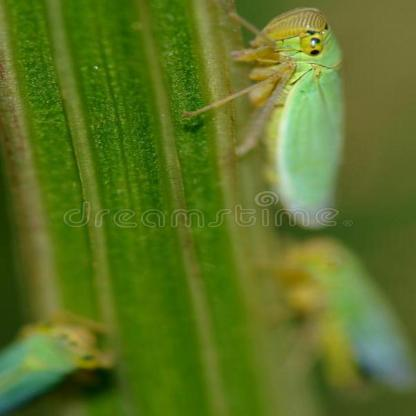green-leafhopper: (235, 10, 356, 224), (300, 242, 401, 393), (0, 320, 100, 414)
